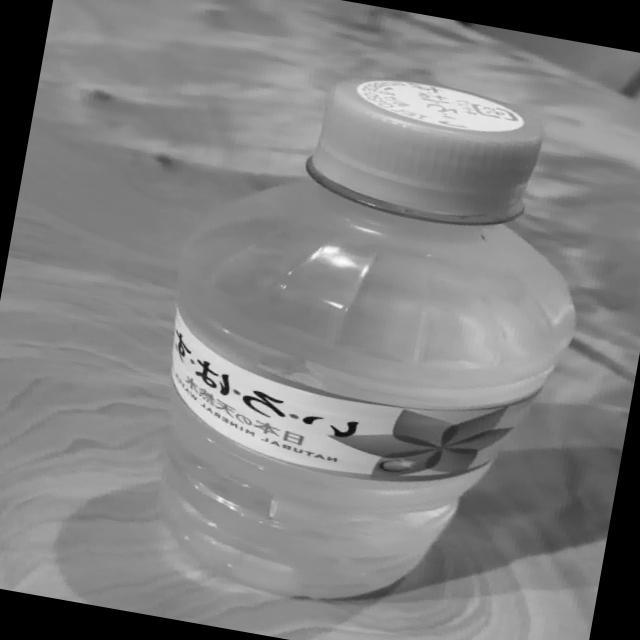good: (119, 40, 616, 640)
